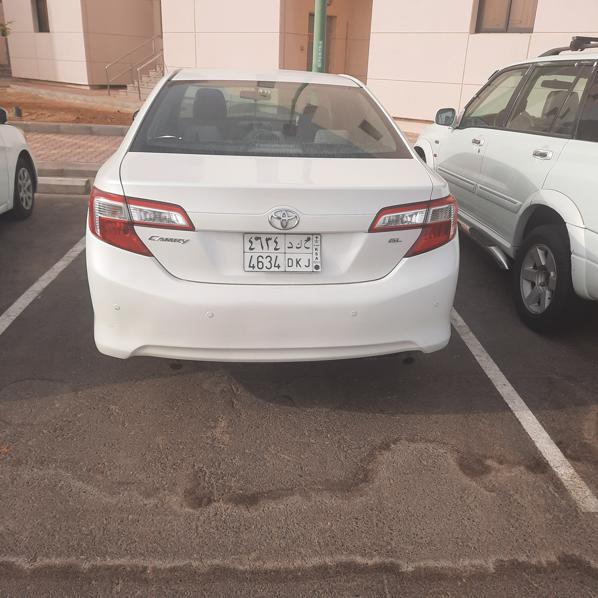numberplate: (242, 232, 322, 272)
